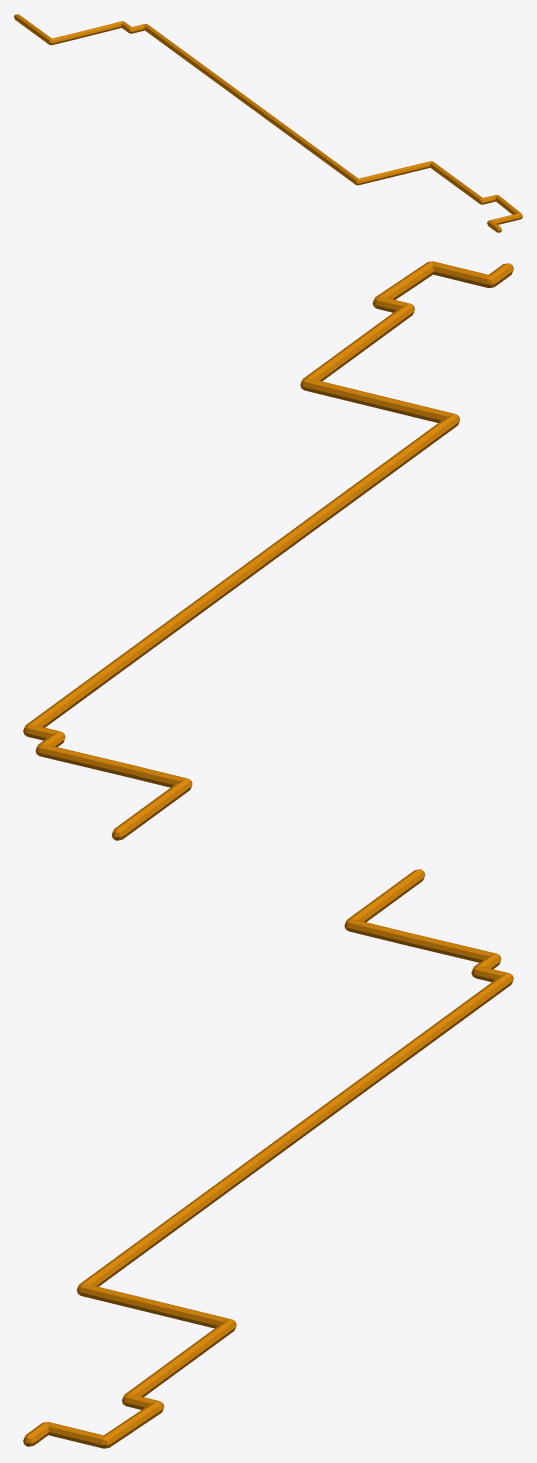
3 renders of one model, top to bottom at view 1: azimuth 30°, elevation 25°; view 2: azimuth 150°, elevation 25°; view 3: azimuth 330°, elevation 25°, orthographic. The views are drawn at different scales.
Size of the model in its own units: 614 by 20 by 2013.
